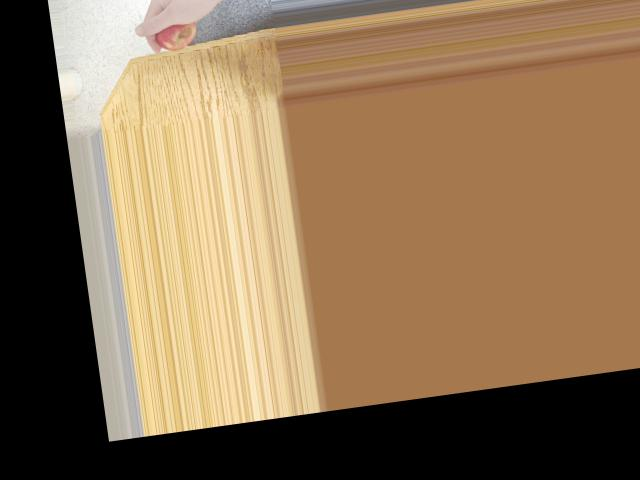apple: (151, 8, 204, 53)
